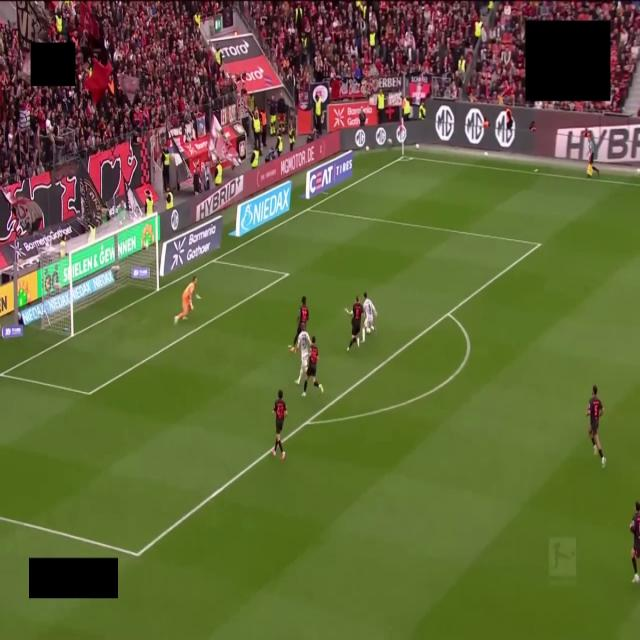ball: (366, 328, 370, 334)
player: (587, 385, 605, 467), (302, 336, 323, 397), (174, 277, 200, 323), (292, 323, 310, 384), (272, 391, 287, 460), (345, 296, 363, 351), (291, 296, 308, 350), (362, 293, 377, 342), (630, 502, 639, 583)
